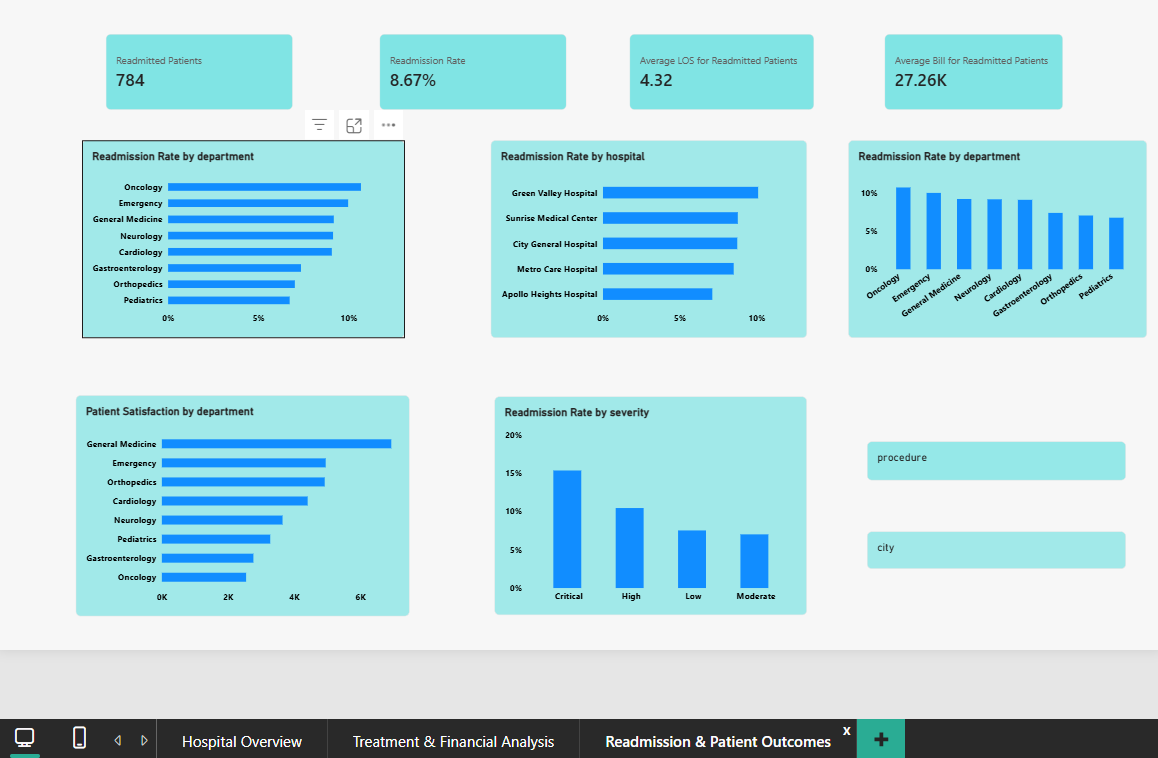

What the dashboard file says about the page in this screenshot:
{"tool":"powerbi","page":{"name":"Readmission & Patient Outcomes","canvas":[1920,1080],"ordinal":2},"visuals":[{"type":"cardVisual","fields":{"Data":["hospital_records hospitals.Readmitted Patients"]},"box":[179.1,65.9,308.7,125.6],"z":0},{"type":"cardVisual","fields":{"Data":["hospital_records hospitals.Readmission Rate"]},"box":[629.8,65.9,308.7,125.6],"z":1000},{"type":"cardVisual","fields":{"Data":["hospital_records hospitals.Average LOS for Readmitted Patients"]},"box":[1041.5,65.9,304.6,125.6],"z":2000},{"type":"cardVisual","fields":{"Data":["hospital_records hospitals.Average Bill for Readmitted Patients"]},"box":[1461.4,65.9,294.3,125.6],"z":3000},{"type":"clusteredBarChart","fields":{"Category":["hospital_records hospitals.department"],"Y":["hospital_records hospitals.Readmission Rate"]},"box":[140,240.8,531,325.2],"z":4000},{"type":"clusteredBarChart","fields":{"Category":["hospital_records hospitals.hospital"],"Y":["hospital_records hospitals.Readmission Rate"]},"box":[813,240.8,520.8,325.2],"z":5000},{"type":"columnChart","fields":{"Category":["hospital_records hospitals.severity"],"Y":["hospital_records hospitals.Readmission Rate"]},"box":[819.2,662.8,514.6,360.2],"z":6000},{"type":"columnChart","fields":{"Category":["hospital_records hospitals.department"],"Y":["hospital_records hospitals.Readmission Rate"]},"box":[1401.7,240.8,491.9,325.2],"z":7000},{"type":"clusteredBarChart","title":"Patient Satisfaction by department","fields":{"Category":["hospital_records hospitals.department"],"Y":["Sum(hospital_records hospitals.patient_satisfaction)"]},"box":[129.7,660.7,549.6,364.3],"z":8000},{"type":"listSlicer","fields":{"Values":["hospital_records hospitals.procedure"]},"box":[1432.6,736.9,426.1,63.8],"z":9000},{"type":"listSlicer","fields":{"Values":["hospital_records hospitals.city"]},"box":[1432.6,885.1,426.1,61.7],"z":10000}]}

Visuals, with their boxes on the page's 1920x1080 design canvas (x1, y1, x2, y2). These are canvas units, not pixel positions in the 1158x758 screenshot, which may show the page scaled, cropped or inside an application window:
cardVisual - hospital_records hospitals.Readmitted Patients: [x1=179, y1=66, x2=488, y2=192]
cardVisual - hospital_records hospitals.Readmission Rate: [x1=630, y1=66, x2=938, y2=192]
cardVisual - hospital_records hospitals.Average LOS for Readmitted Patients: [x1=1042, y1=66, x2=1346, y2=192]
cardVisual - hospital_records hospitals.Average Bill for Readmitted Patients: [x1=1461, y1=66, x2=1756, y2=192]
clusteredBarChart - hospital_records hospitals.department x hospital_records hospitals.Readmission Rate: [x1=140, y1=241, x2=671, y2=566]
clusteredBarChart - hospital_records hospitals.hospital x hospital_records hospitals.Readmission Rate: [x1=813, y1=241, x2=1334, y2=566]
columnChart - hospital_records hospitals.severity x hospital_records hospitals.Readmission Rate: [x1=819, y1=663, x2=1334, y2=1023]
columnChart - hospital_records hospitals.department x hospital_records hospitals.Readmission Rate: [x1=1402, y1=241, x2=1894, y2=566]
"Patient Satisfaction by department" clusteredBarChart: [x1=130, y1=661, x2=679, y2=1025]
listSlicer - hospital_records hospitals.procedure: [x1=1433, y1=737, x2=1859, y2=801]
listSlicer - hospital_records hospitals.city: [x1=1433, y1=885, x2=1859, y2=947]
